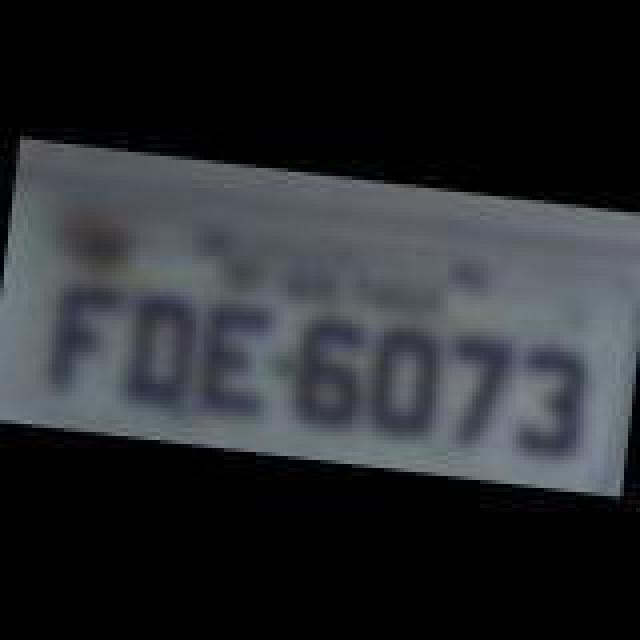3: (506, 338, 598, 462)
6: (294, 318, 378, 434)
7: (434, 330, 518, 454)
D: (120, 288, 200, 408)
E: (190, 298, 274, 422)
F: (46, 282, 122, 406)
O: (360, 326, 448, 442)
